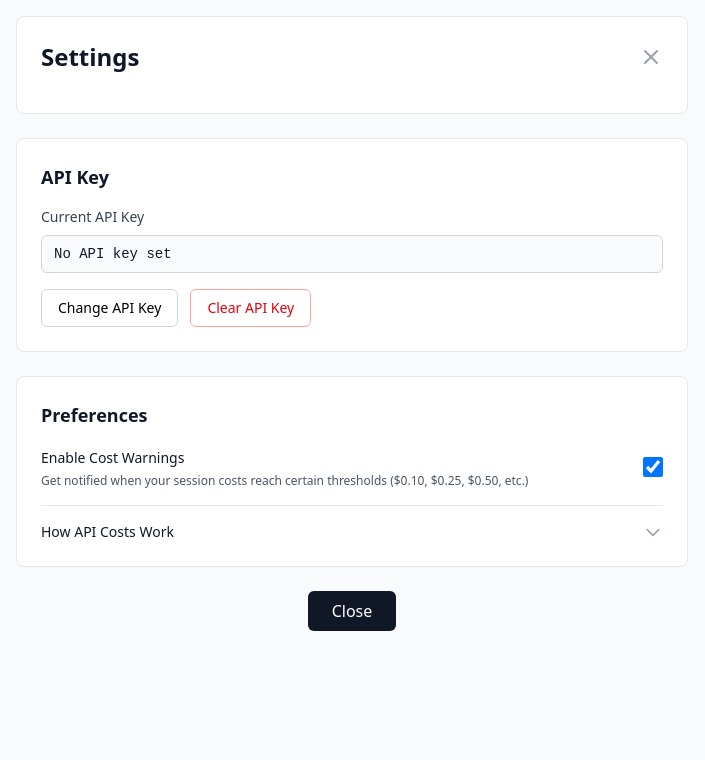
Test case: Settings Component › Change API Key › should validate API key format before updating
This screenshot has width=705, height=760.
Step 1. Click the button "Change API Key" → (110, 308), box [41,289,178,327]
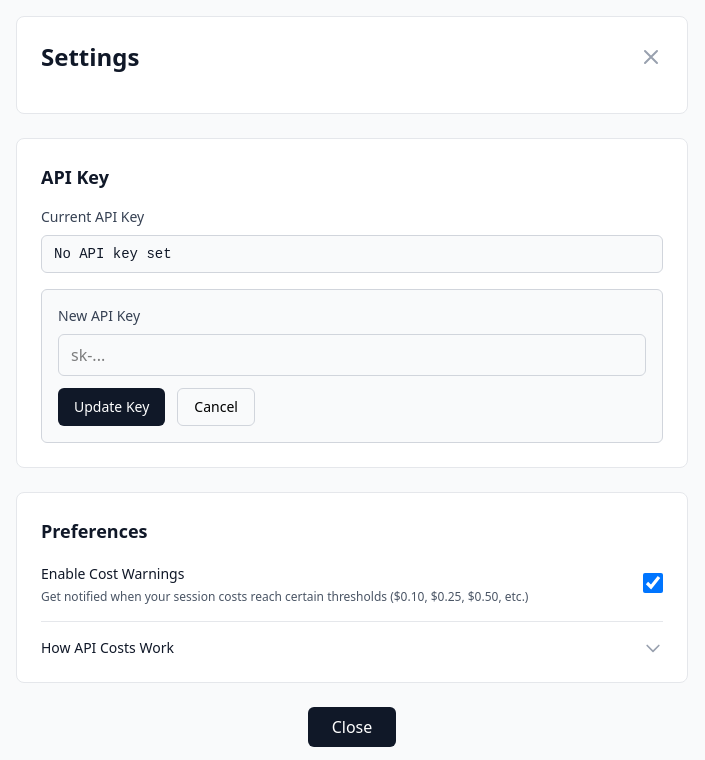
Try invalid key
Step 2. Type "invalid-key" into the password field with placeholder "sk-..." → (352, 355), box [58,334,646,376]
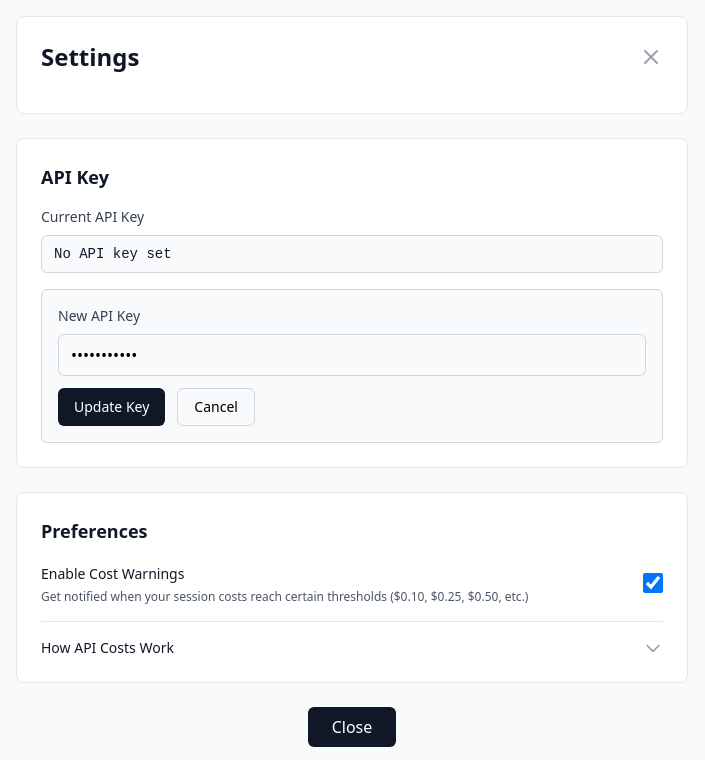
Step 3. Click the button "Update Key" → (112, 407), box [58,388,165,426]
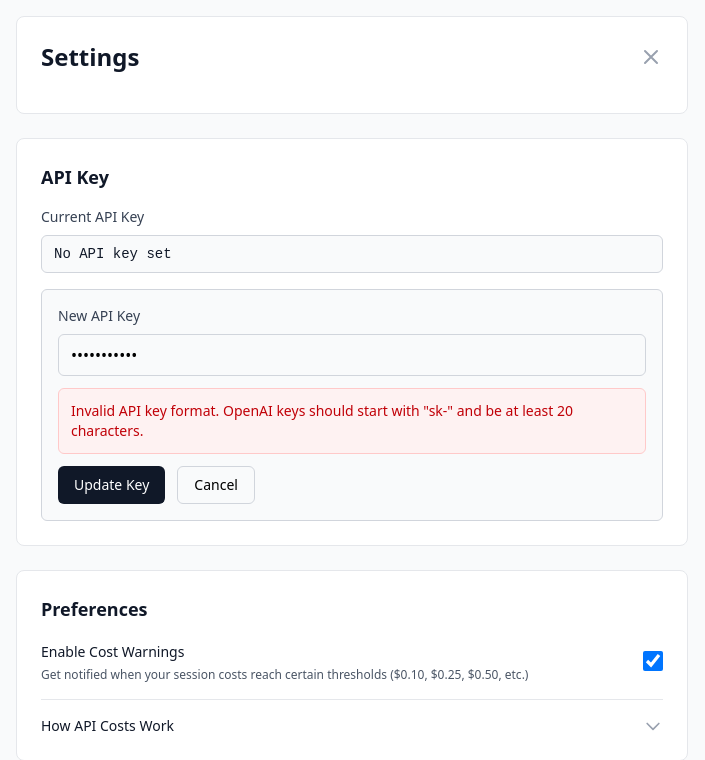
Expected: the text "Invalid API key format" is shown, [71,401,573,440]
